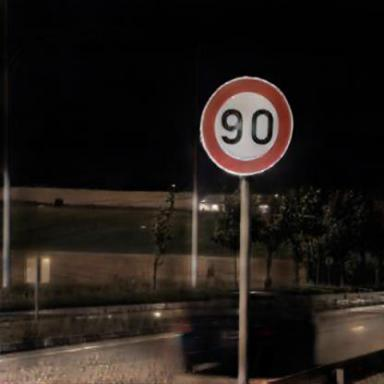Speed_limit_90: (201, 80, 295, 176)
